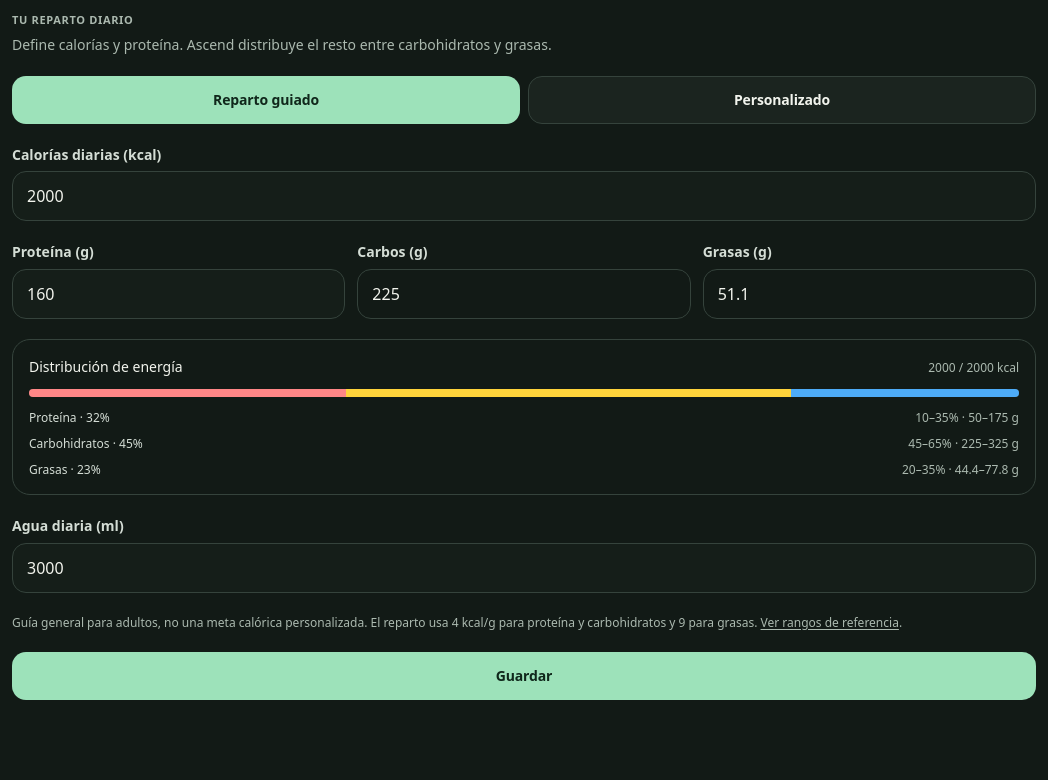
GoalForm › impide guardar un reparto guiado incompatible
Replace the text in the field labelled "Proteína (g)" with "250" at (179,294), box [12,269,345,319]
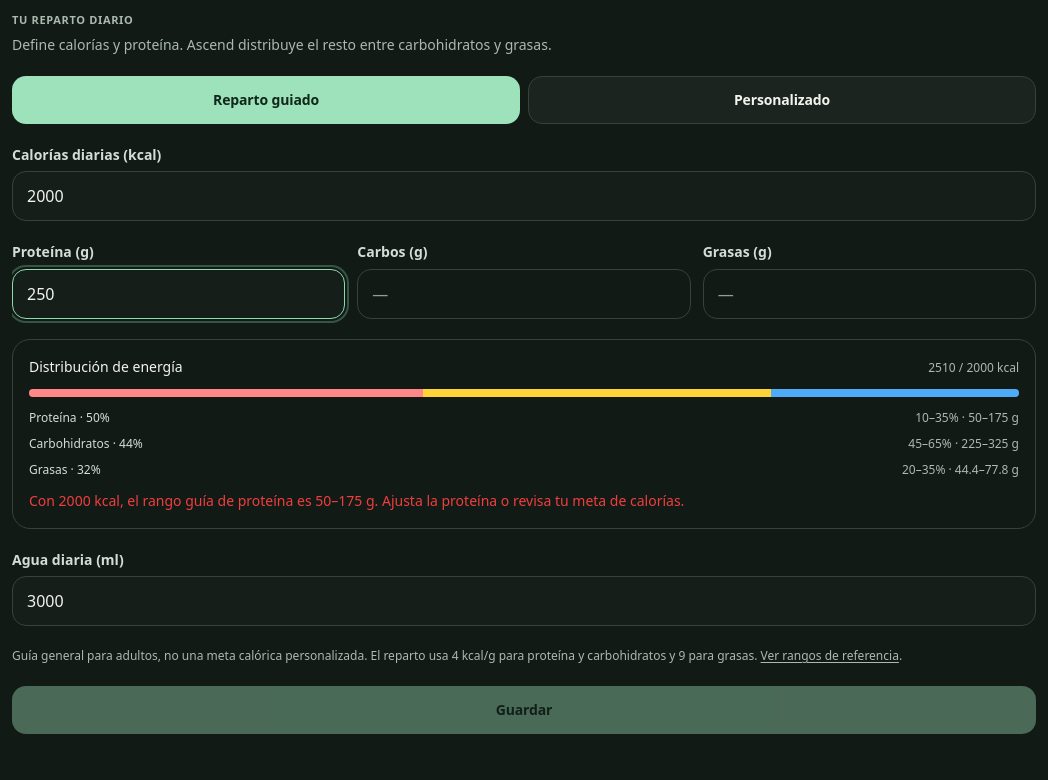
Now the button "Guardar" is disabled, box [12,686,1036,734]
Now the message shows "50–175 g", box [29,491,684,510]
